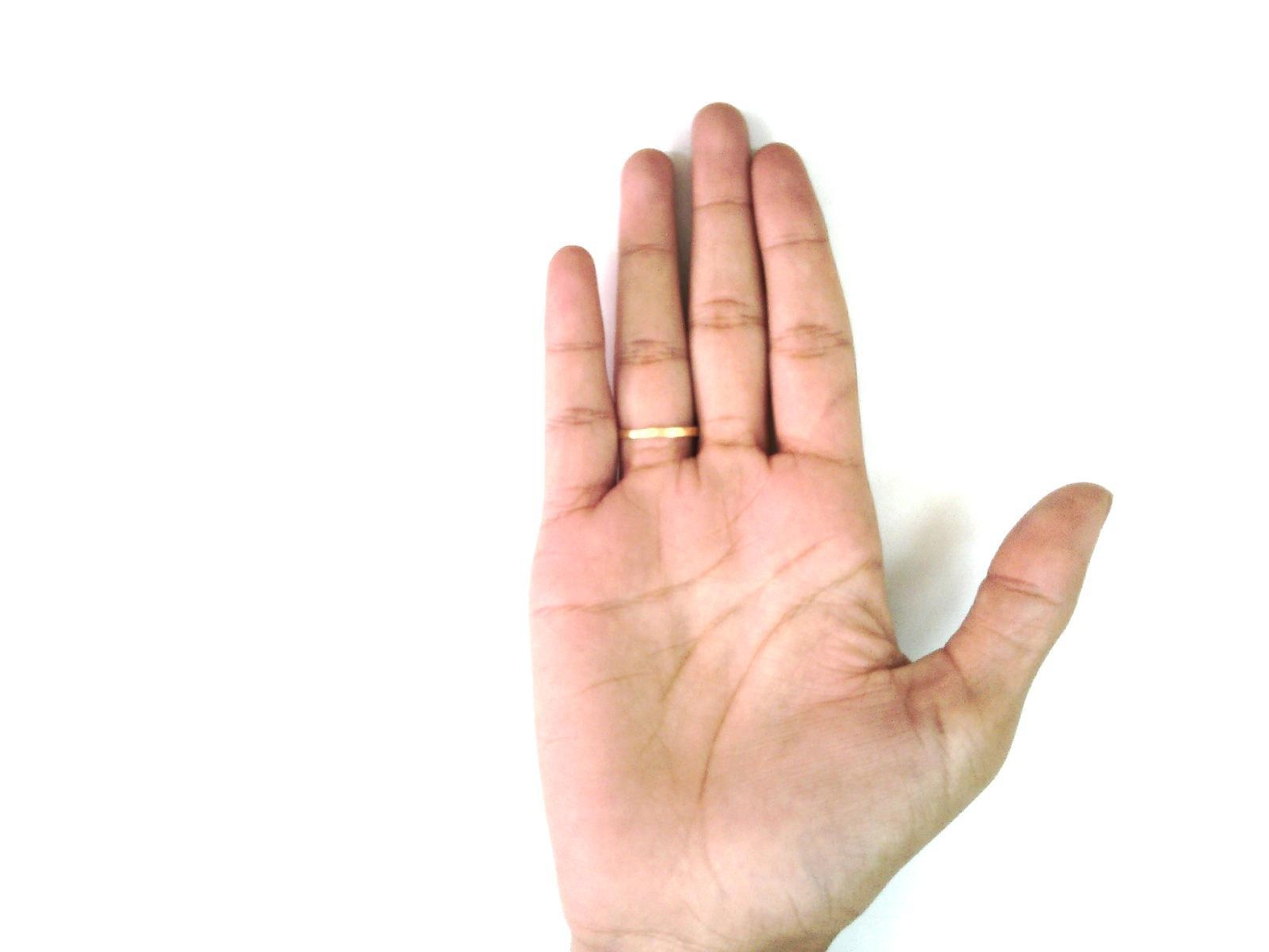open_palm: (524, 102, 1115, 951)
